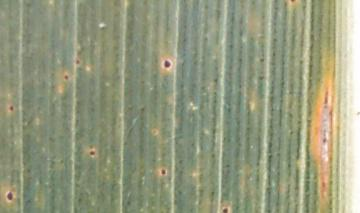tarspot: (163, 59, 172, 69), (5, 191, 13, 202), (62, 72, 70, 80), (159, 168, 167, 176), (9, 104, 16, 112), (321, 138, 328, 145), (221, 207, 229, 213), (89, 150, 96, 156), (76, 59, 81, 65), (290, 1, 297, 4)
